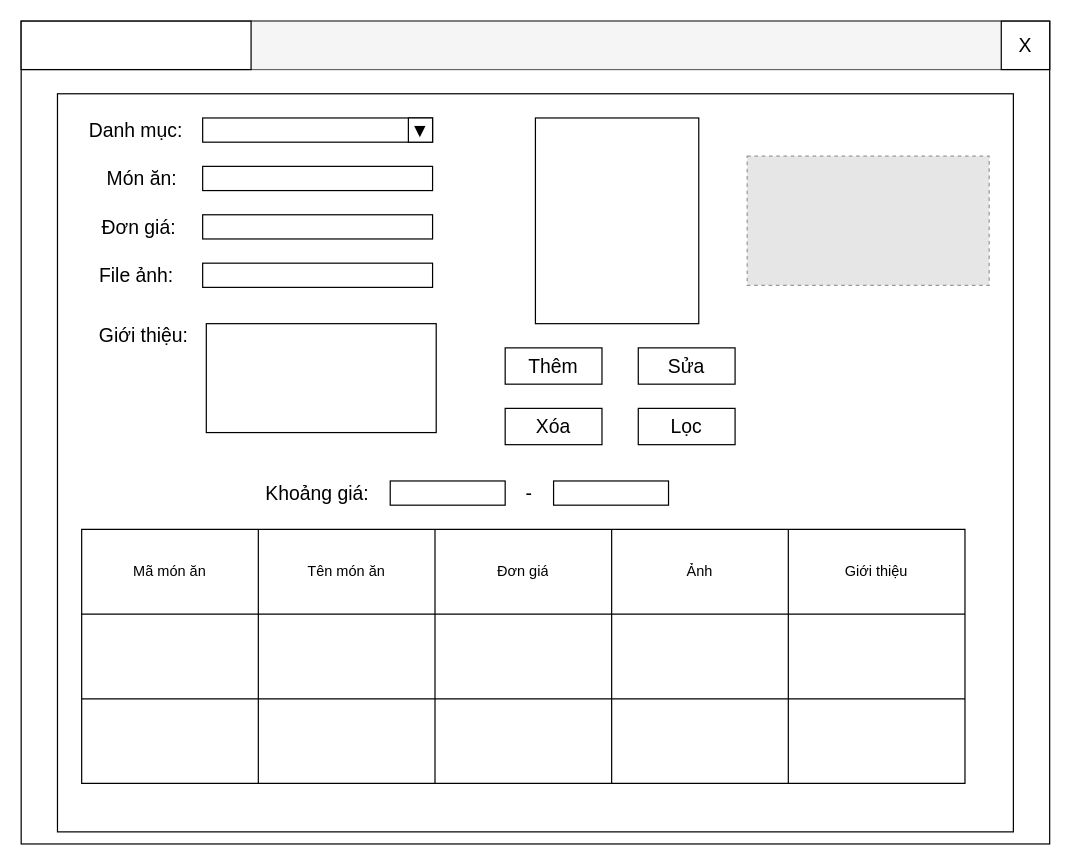
The diagram is 1071 pixels wide and 865 high, and some of its shapes have lost their labels. Grey dashed boxes stand in for pictures. The shapes that lost their labels are listed below. From the top down, each one's centre as x and y in pixels, then its label:
At (135,45): "Quản lý món ăn".
At (616,220): "Hình ảnh món ăn".
